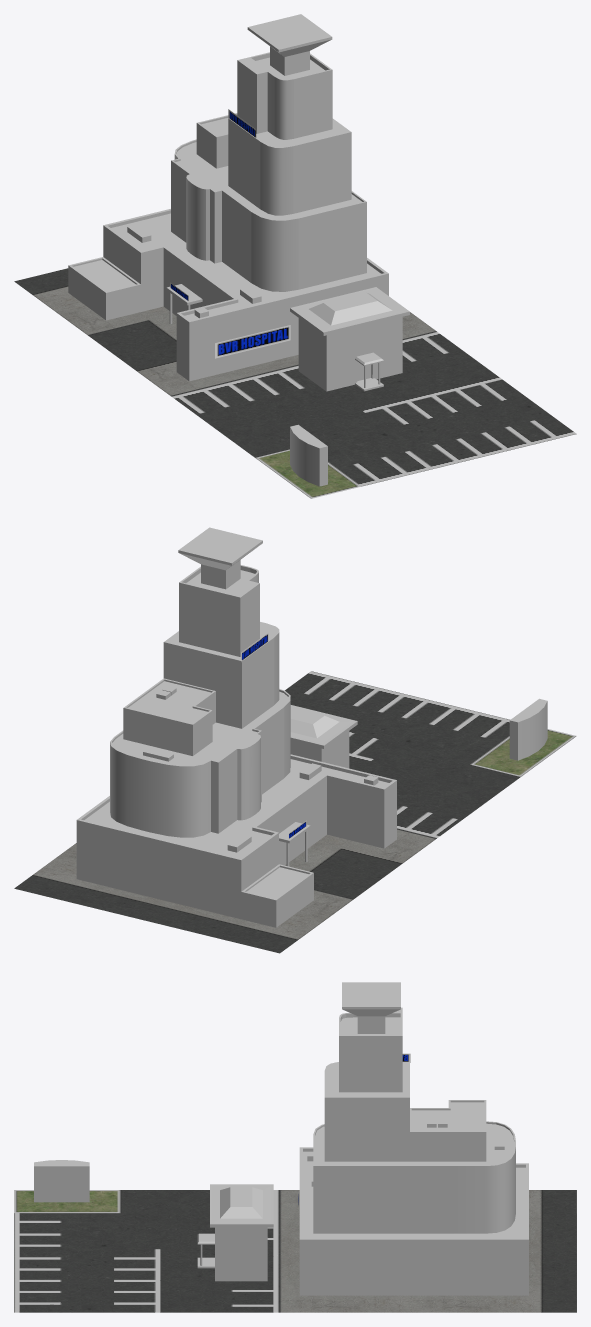
The model's file is BVR Hospital_Static.FBX.
3 renders of one model, top to bottom at view 1: azimuth 30°, elevation 25°; view 2: azimuth 150°, elevation 25°; view 3: azimuth 270°, elevation 25°, orthographic. The views are drawn at different scales.
Parts seen in each view (by area): view 1: BVR Hospital, BVR Hospital Road; view 2: BVR Hospital, BVR Hospital Road; view 3: BVR Hospital, BVR Hospital Road.
Part boxes in pixels (x1,y1,x2,y2): BVR Hospital: [68, 14, 409, 391]; BVR Hospital Road: [14, 268, 576, 498]; BVR Hospital: [76, 527, 396, 927]; BVR Hospital Road: [14, 671, 576, 953]; BVR Hospital: [197, 982, 528, 1295]; BVR Hospital Road: [14, 1160, 576, 1312].
Bounding box in the file's own units: 11.1 × 11.72 × 21.49.
